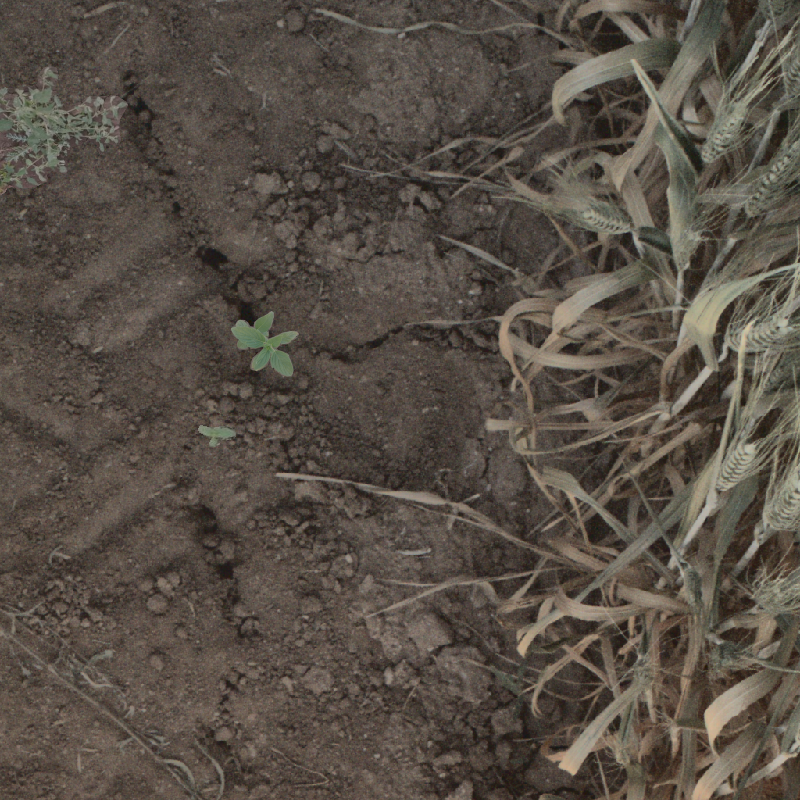spikelet: (739, 136, 799, 219), (695, 97, 750, 166), (758, 446, 799, 536), (719, 311, 794, 355), (571, 195, 635, 237), (712, 437, 759, 493), (775, 36, 800, 110), (751, 575, 796, 615)
weed: (1, 66, 128, 196), (231, 311, 299, 377), (198, 425, 236, 447)
